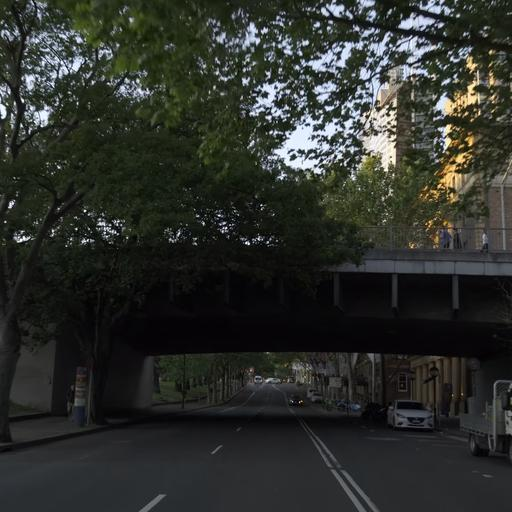Street light: (426, 363, 440, 430)
